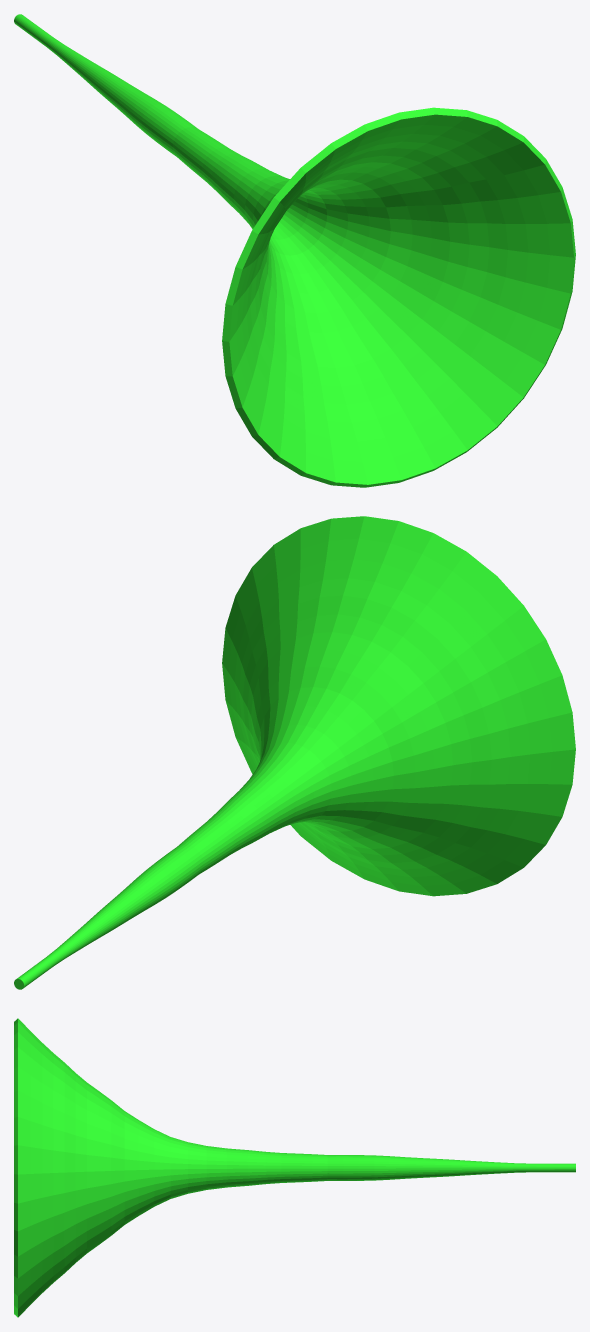
The model's file is Horn.obj.
The picture shows the model from 3 angles, top to bottom: view 1: azimuth 30°, elevation 25°; view 2: azimuth 150°, elevation 25°; view 3: azimuth 270°, elevation 25°; orthographic projection. The views are drawn at different scales.
Parts seen in each view (by area): view 1: Horn; view 2: Horn; view 3: Horn.
Part boxes in pixels (x1,y1,x2,y2): Horn: (14,14,575,487); Horn: (14,516,575,989); Horn: (14,1018,575,1317).
Size of the model in its own units: 0.535 by 0.535 by 1.
